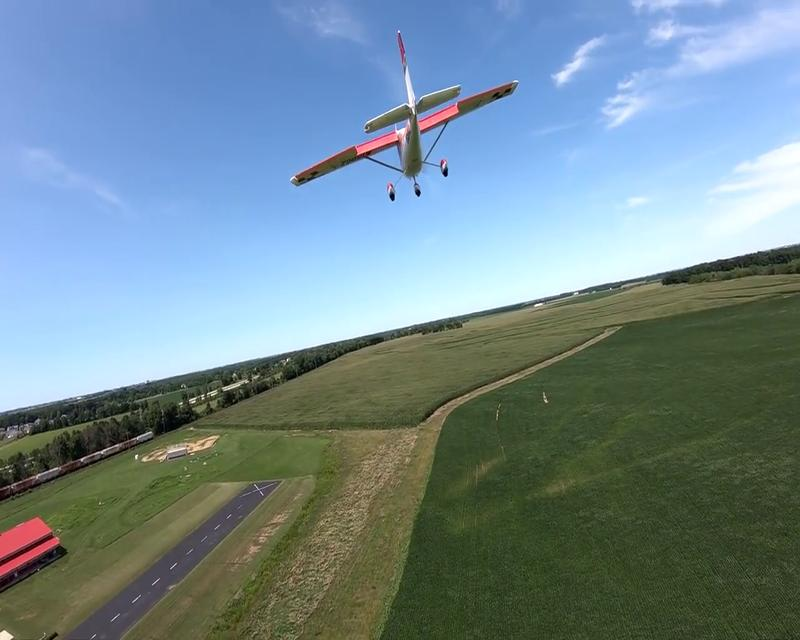UAV: (288, 29, 520, 203)
